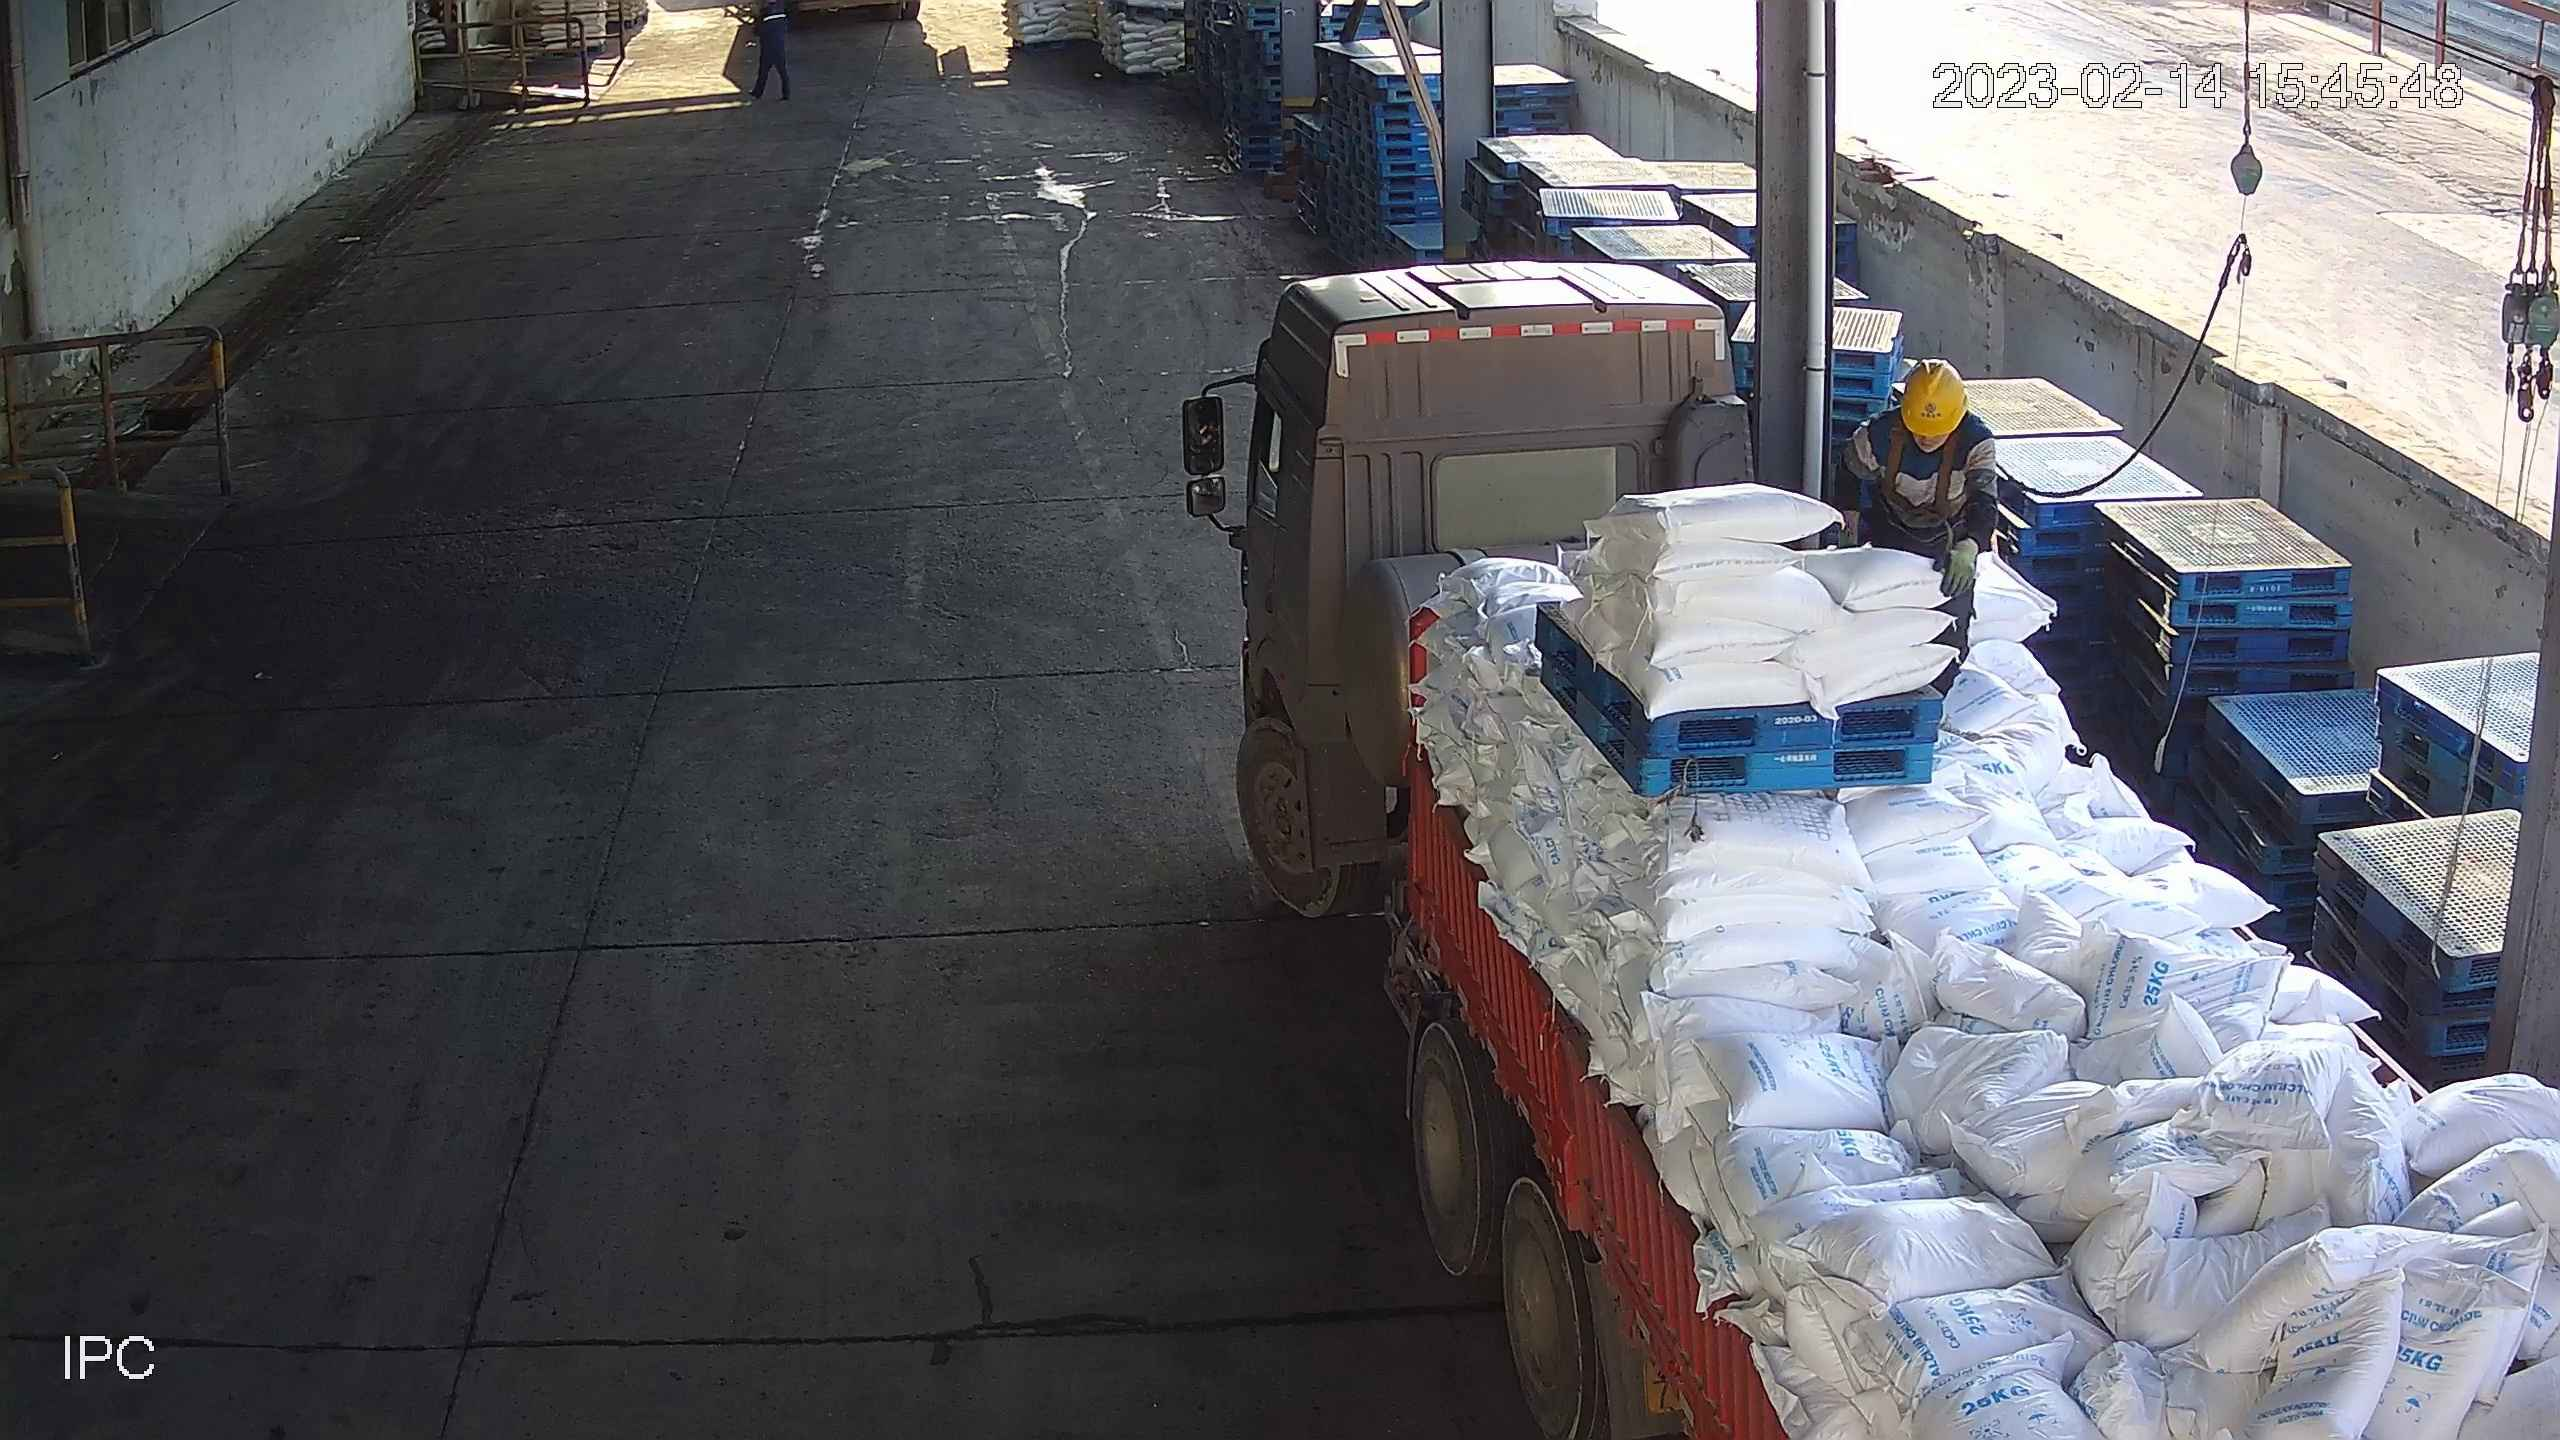belt: (1879, 439, 1959, 522)
head: (1877, 358, 1984, 471)
helmet: (1904, 358, 1967, 436)
truck: (1176, 246, 2560, 1440)
